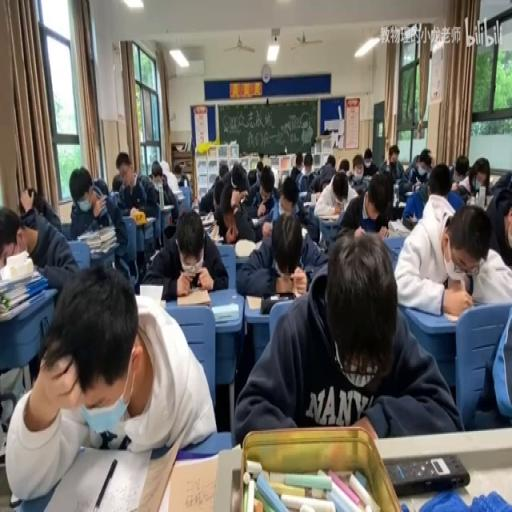calculator: (162, 450, 222, 510), (0, 289, 45, 320), (246, 292, 298, 314), (380, 232, 406, 263), (176, 287, 210, 307), (210, 300, 238, 322), (138, 282, 164, 302), (234, 236, 257, 258), (388, 218, 411, 236), (202, 223, 221, 243), (317, 209, 341, 221), (133, 215, 155, 226), (442, 312, 461, 322), (200, 212, 214, 225), (302, 199, 316, 208), (174, 189, 184, 201), (298, 189, 309, 199), (250, 214, 260, 224), (158, 204, 174, 210), (404, 190, 414, 198), (301, 226, 307, 239)
paper: (8, 262, 213, 499), (234, 228, 455, 442), (394, 192, 508, 316), (144, 206, 226, 297), (5, 194, 78, 294), (69, 164, 129, 282), (467, 290, 512, 427), (336, 170, 394, 238), (244, 165, 279, 237), (287, 176, 322, 245), (146, 159, 180, 229), (198, 165, 230, 218), (400, 148, 432, 200), (426, 161, 451, 196), (382, 144, 404, 182), (466, 158, 488, 195), (22, 186, 46, 219), (488, 168, 512, 195), (309, 165, 332, 193), (230, 161, 248, 192), (331, 172, 348, 202), (362, 146, 378, 176), (288, 152, 302, 185), (446, 189, 464, 212), (502, 202, 510, 249), (91, 176, 108, 196), (454, 158, 468, 179), (111, 172, 123, 191), (350, 180, 366, 194), (352, 158, 363, 178), (337, 156, 349, 174), (246, 168, 258, 185), (218, 162, 229, 179), (158, 158, 169, 175), (173, 164, 182, 184), (302, 154, 312, 172), (325, 154, 334, 169), (256, 160, 262, 174), (426, 155, 432, 165), (346, 171, 353, 179)
person: (386, 452, 470, 494), (8, 494, 22, 508)
